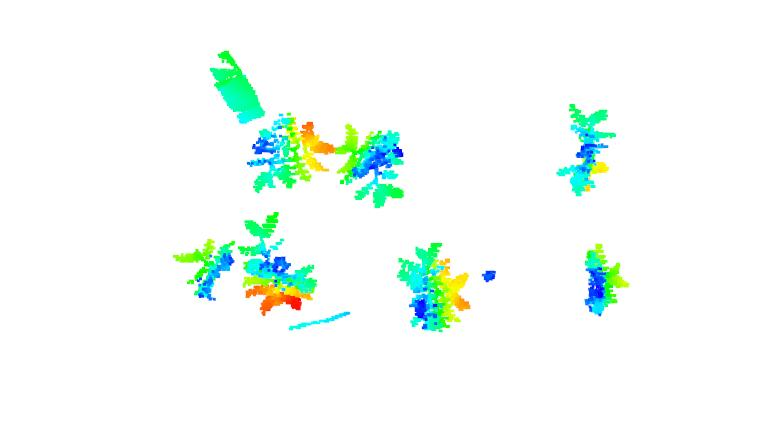chickpea: (235, 210, 319, 317), (397, 242, 473, 333), (248, 113, 335, 189), (333, 124, 408, 209), (555, 102, 617, 197), (171, 234, 237, 301), (582, 242, 633, 316)
